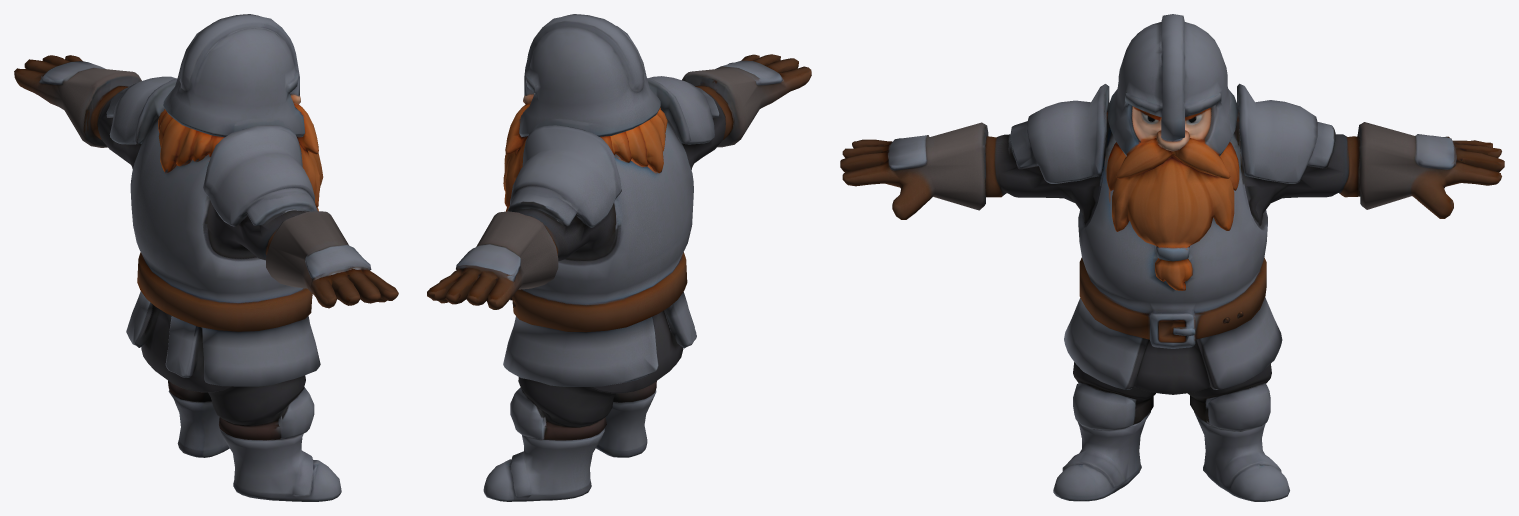
The model's file is spearmen.glb.
The picture shows the model from 3 angles, left to right: view 1: azimuth 30°, elevation 25°; view 2: azimuth 150°, elevation 25°; view 3: azimuth 270°, elevation 25°; orthographic projection.
Parts seen in each view (by area): view 1: tripo_node_b82fba70-58a6-4e8b-bc27-345ddd6db225; view 2: tripo_node_b82fba70-58a6-4e8b-bc27-345ddd6db225; view 3: tripo_node_b82fba70-58a6-4e8b-bc27-345ddd6db225.
Part boxes in pixels (box(x1,y1,x2,y2)): tripo_node_b82fba70-58a6-4e8b-bc27-345ddd6db225: box(14, 14, 398, 501); tripo_node_b82fba70-58a6-4e8b-bc27-345ddd6db225: box(427, 14, 811, 501); tripo_node_b82fba70-58a6-4e8b-bc27-345ddd6db225: box(840, 14, 1504, 501).
Bounding box in the file's own units: 0.291 × 0.752 × 0.998.
Materials: 1 (1 with a texture image).
